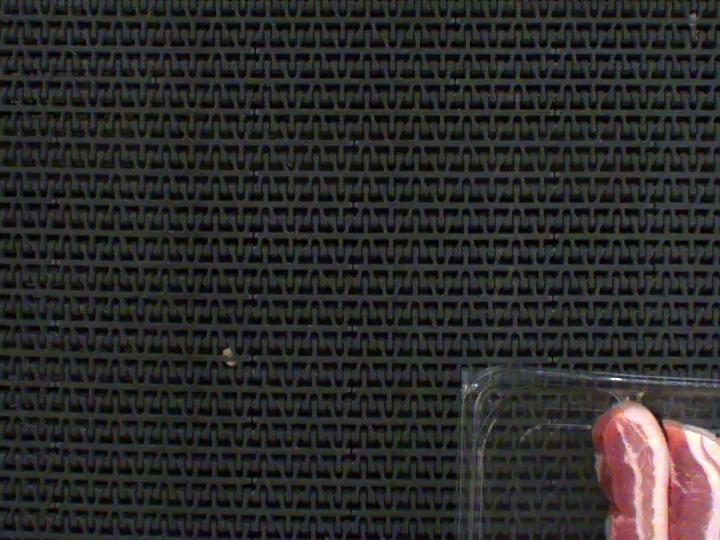packaging-error: (599, 381, 648, 407)
